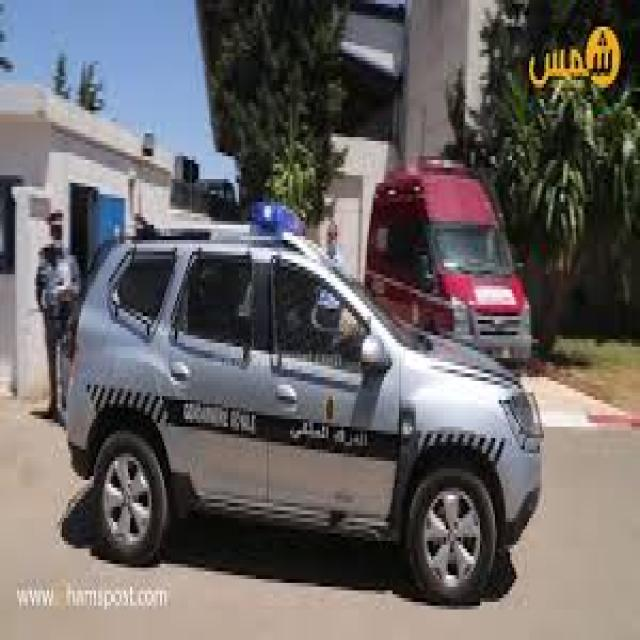gendarme car: (62, 208, 550, 613)
